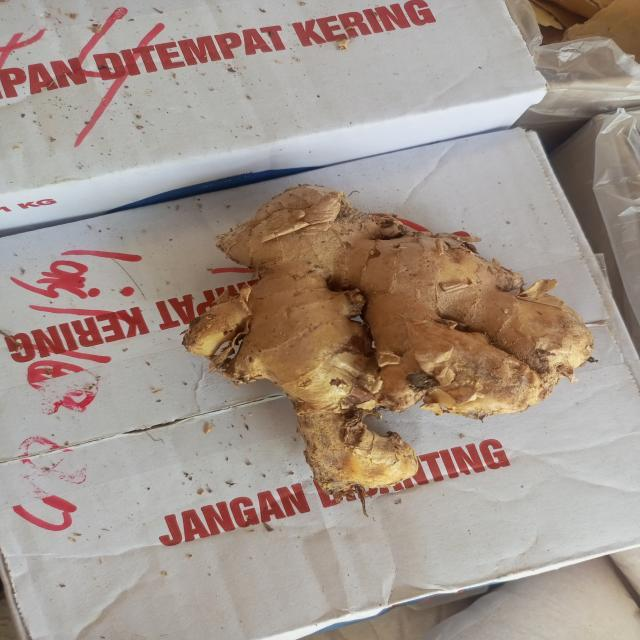ginger: (208, 184, 568, 476)
